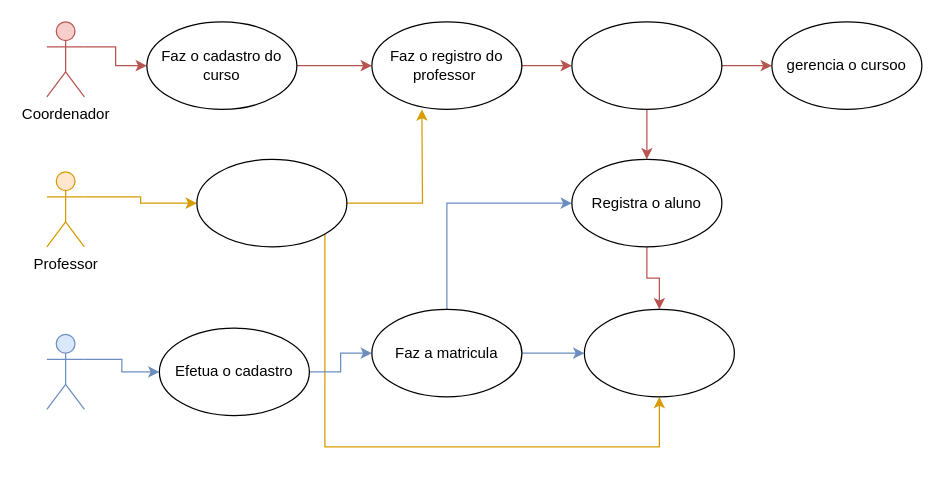
Image size: 944x479. Some labels were removed from this diagram. Each missing label, with the box of its shape:
Aluno: (46, 333, 84, 409)
Consulta lista de alunos: (583, 308, 734, 397)
Libera vagas: (571, 21, 722, 109)
Pega a vaga de emprego: (196, 158, 347, 247)
